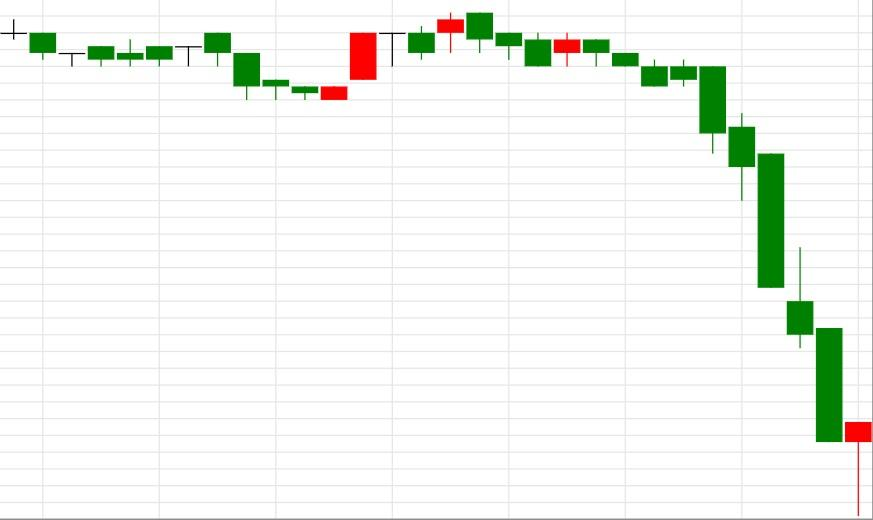bearish_engulfing_fall: (319, 12, 494, 101)
bullish_engulfing_rise: (204, 32, 348, 100)
hammer_rise: (466, 11, 873, 515)
